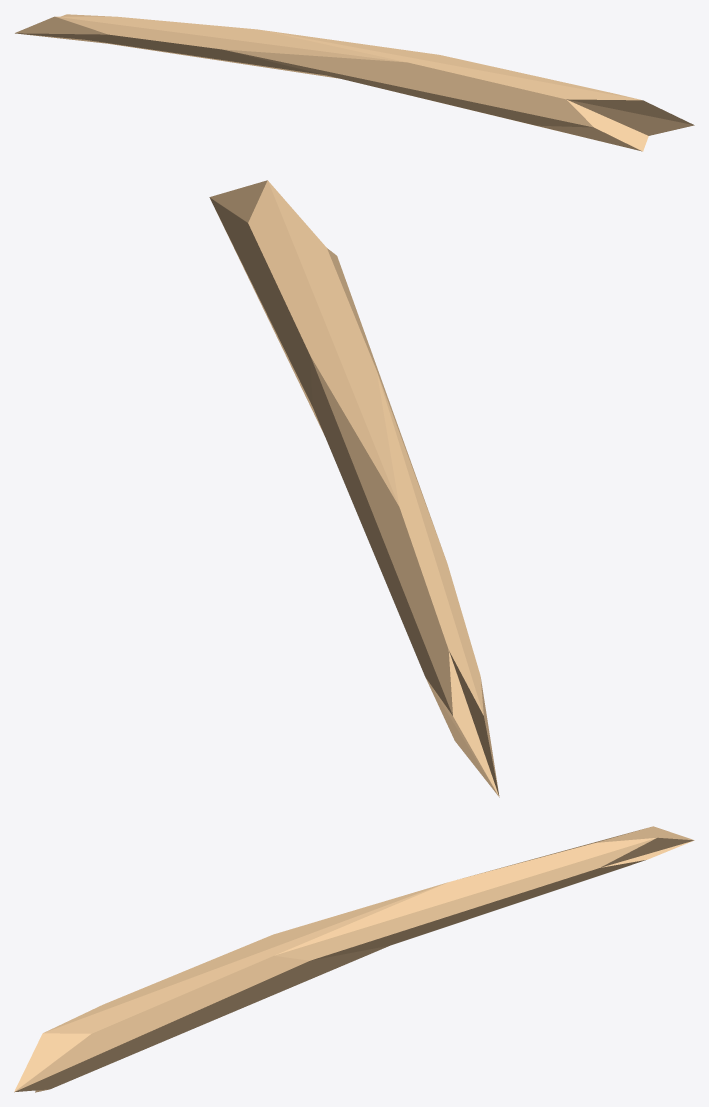
Rendered from Branch 2.fbx.
3 views of the same model, one above another, from view 1: azimuth 30°, elevation 25°; view 2: azimuth 150°, elevation 25°; view 3: azimuth 270°, elevation 25° (orthographic). The views are drawn at different scales.
Visible parts, largest first — view 1: Branch 2; view 2: Branch 2; view 3: Branch 2.
Part boxes in pixels (x1=…): Branch 2: x1=15, y1=14, x2=694, y2=151; Branch 2: x1=209, y1=180, x2=499, y2=797; Branch 2: x1=14, y1=826, x2=694, y2=1092.
Bounding box in the file's own units: 35.73 × 4.73 × 40.15.
